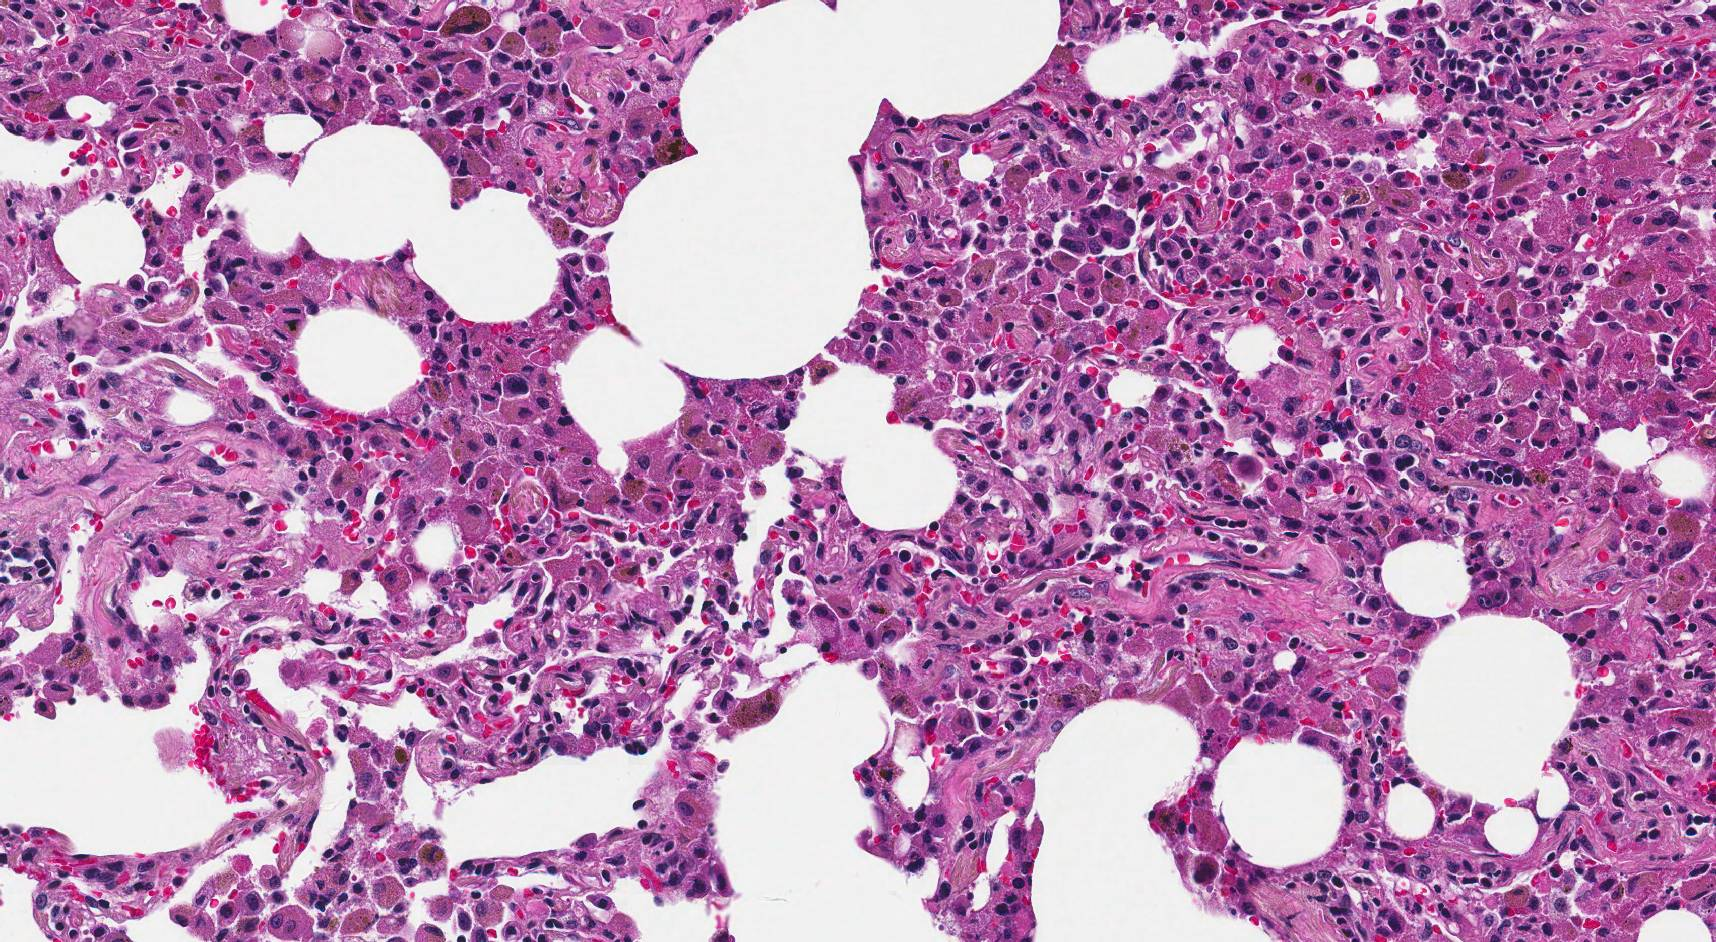stas: (1056, 202, 1135, 257)
